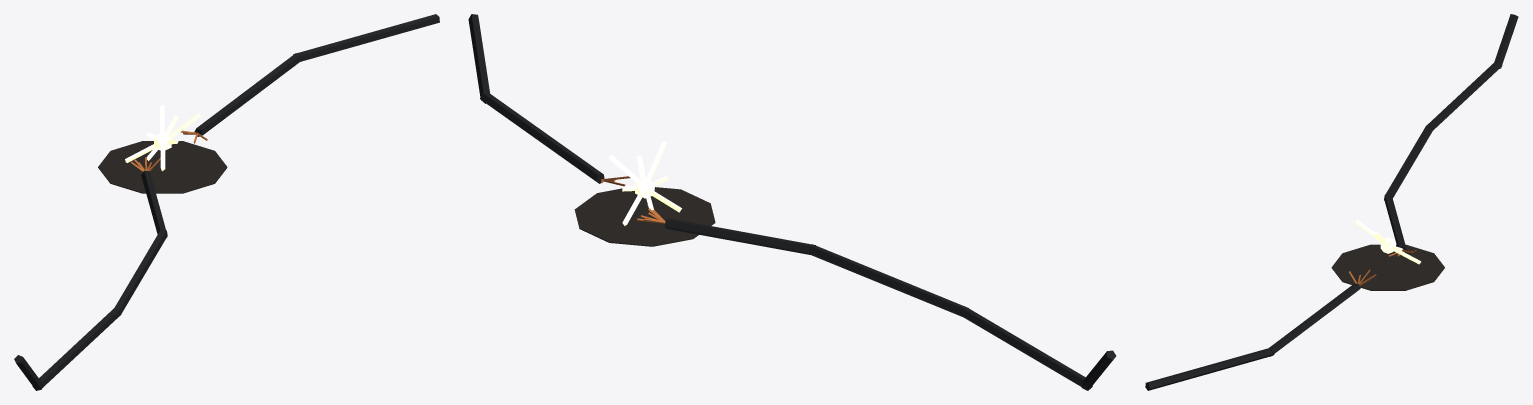
The model's file is lwf_power_lead_chewed_v1.glb.
The picture shows the model from 3 angles, left to right: view 1: azimuth 90°, elevation 25°; view 2: azimuth 150°, elevation 25°; view 3: azimuth 270°, elevation 25°; orthographic projection. The views are drawn at different scales.
Visible parts, largest first — view 1: LWF_PowerLead_Chewed, LWF_Spark; view 2: LWF_PowerLead_Chewed, LWF_Spark; view 3: LWF_PowerLead_Chewed, LWF_Spark.
Boxes of the visible parts, x1,y1,x2,y2 form: LWF_PowerLead_Chewed: [14, 14, 439, 390]; LWF_Spark: [125, 105, 200, 171]; LWF_PowerLead_Chewed: [468, 14, 1116, 390]; LWF_Spark: [608, 141, 681, 225]; LWF_PowerLead_Chewed: [1145, 14, 1518, 390]; LWF_Spark: [1355, 219, 1420, 264].
Size of the model in its own units: 3.95 by 0.2613 by 1.84.
2 materials, 1 textured.
